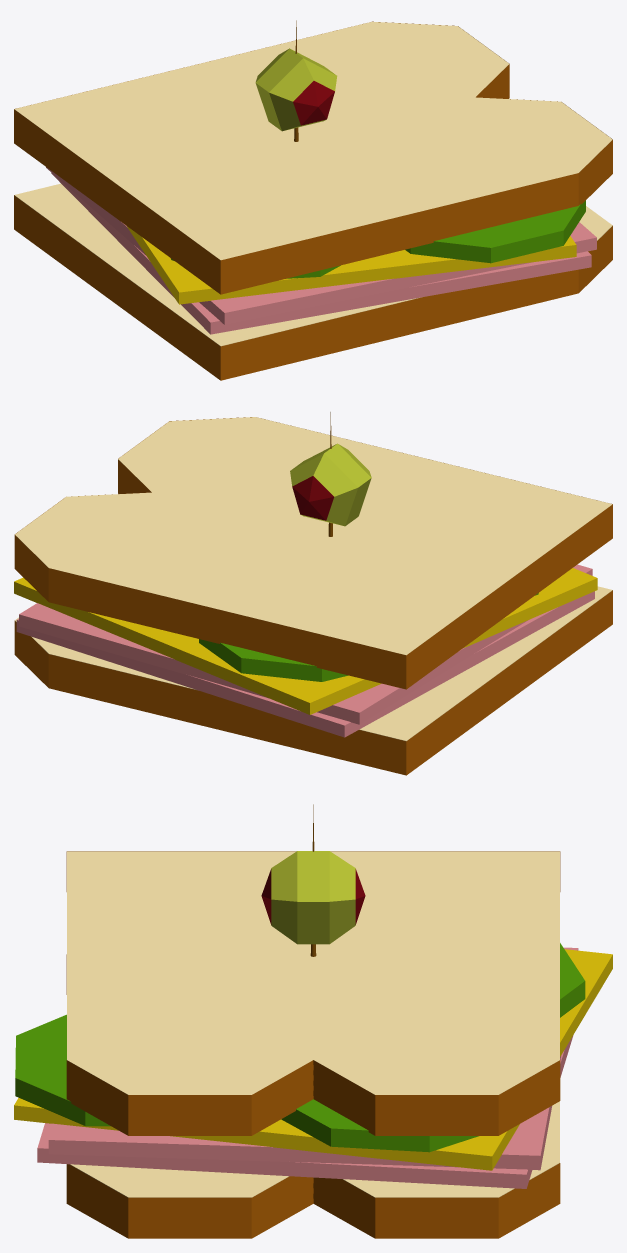
File: Low Poly Tf2 Sandvich.fbx
3 views of the same model, one above another, from view 1: azimuth 30°, elevation 25°; view 2: azimuth 150°, elevation 25°; view 3: azimuth 270°, elevation 25° (orthographic). The views are drawn at different scales.
Visible parts, largest first — view 1: Cube.005, Cube.006, Cube, Cube.001, Cube.004, Cube.002, Cube.003, Cylinder.003, Sphere, Sphere.001; view 2: Cube.005, Cube.006, Cube, Cube.001, Cube.003, Cube.002, Cube.004, Sphere, Cylinder.002, Sphere.001; view 3: Cube.005, Cube.006, Cube, Cube.003, Cube.001, Cube.004, Cube.002, Sphere, Cylinder.003, Cylinder.001, Cylinder.002, Sphere.001.
Part boxes in pixels (left/top/right/bottom): Cube.005: left=14, top=22, right=612, bottom=260; Cube.006: left=14, top=21, right=612, bottom=294; Cube: left=14, top=195, right=612, bottom=380; Cube.001: left=127, top=226, right=576, bottom=304; Cube.004: left=14, top=183, right=612, bottom=346; Cube.002: left=51, top=173, right=591, bottom=334; Cube.003: left=46, top=167, right=596, bottom=324; Cylinder.003: left=405, top=200, right=585, bottom=263; Sphere: left=255, top=48, right=337, bottom=131; Sphere.001: left=293, top=81, right=334, bottom=125; Cube.005: left=15, top=417, right=612, bottom=655; Cube.006: left=14, top=417, right=612, bottom=689; Cube: left=14, top=590, right=612, bottom=775; Cube.001: left=14, top=568, right=597, bottom=714; Cube.003: left=19, top=564, right=592, bottom=724; Cube.002: left=16, top=591, right=594, bottom=737; Cube.004: left=15, top=586, right=612, bottom=741; Sphere: left=290, top=443, right=371, bottom=526; Cylinder.002: left=199, top=639, right=348, bottom=681; Sphere.001: left=292, top=476, right=333, bottom=520; Cube.005: left=67, top=851, right=559, bottom=1094; Cube.006: left=66, top=851, right=560, bottom=1135; Cube: left=66, top=954, right=560, bottom=1238; Cube.003: left=48, top=947, right=578, bottom=1170; Cube.001: left=14, top=949, right=612, bottom=1170; Cube.004: left=70, top=1101, right=559, bottom=1197; Cube.002: left=37, top=1035, right=573, bottom=1188; Sphere: left=271, top=851, right=355, bottom=944; Cylinder.003: left=15, top=1014, right=110, bottom=1126; Cylinder.001: left=281, top=1099, right=478, bottom=1152; Cylinder.002: left=560, top=943, right=585, bottom=1017; Sphere.001: left=261, top=869, right=365, bottom=924.
Bounding box in the file's own units: 243 × 132 × 243.
